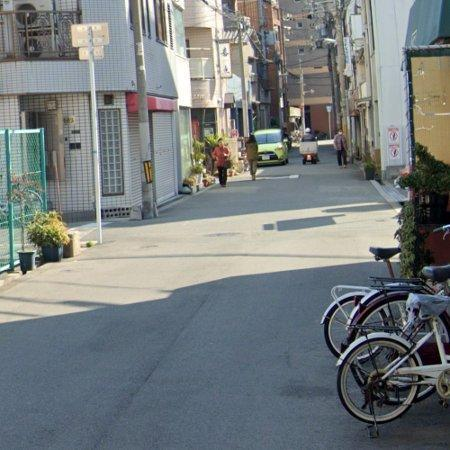bicycles: (338, 294, 450, 424), (343, 266, 450, 352), (322, 282, 387, 357), (370, 247, 402, 279)
